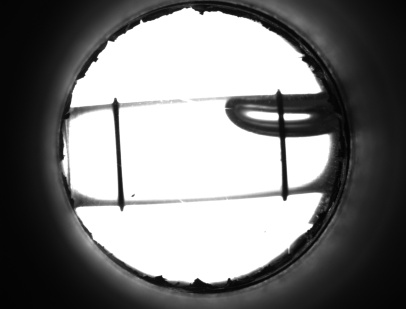line: (109, 115, 128, 191), (274, 143, 293, 183)
